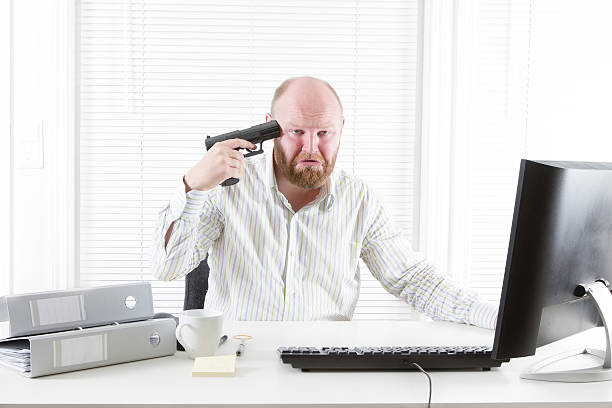gun: (204, 120, 282, 188)
